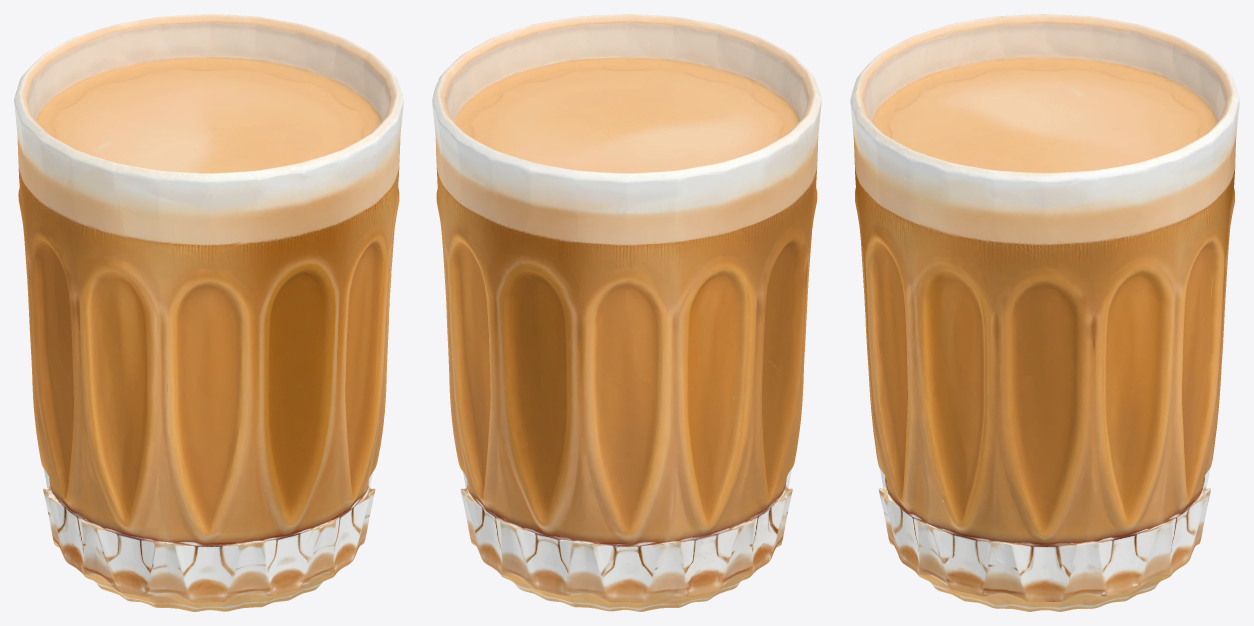
Rendered from fog-line.glb.
3 views of the same model, side by side, from view 1: azimuth 30°, elevation 25°; view 2: azimuth 150°, elevation 25°; view 3: azimuth 270°, elevation 25° (orthographic).
Visible parts, largest first — view 1: Mesh_0; view 2: Mesh_0; view 3: Mesh_0.
Part boxes in pixels (x1,y1,x2,y2): Mesh_0: (14,14,403,611); Mesh_0: (432,14,821,611); Mesh_0: (850,14,1239,611).
Bounding box in the file's own units: 1.44 × 1.9 × 1.44.
1 material, 1 textured.
